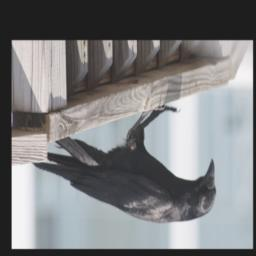Crow: (31, 105, 217, 225)
